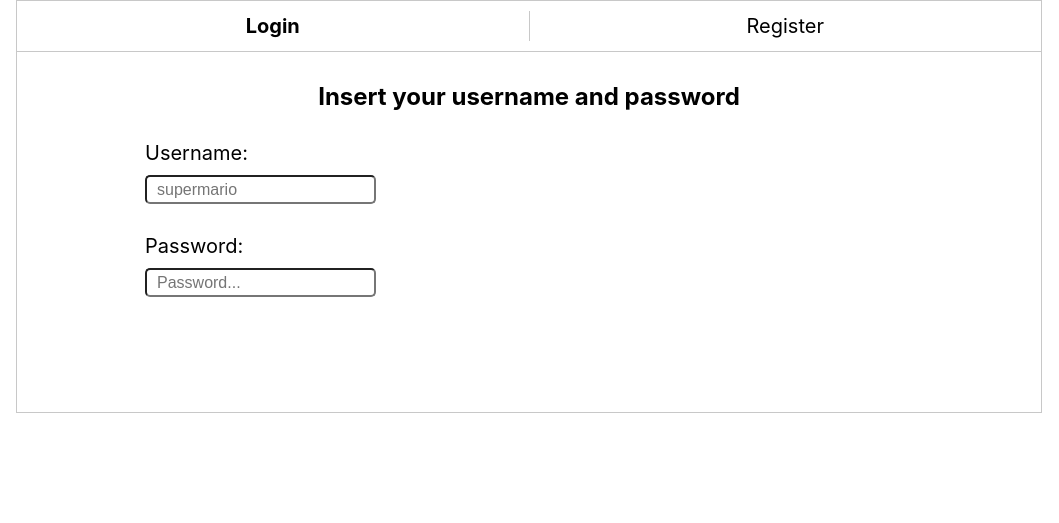
Test case: Given a AuthenticationPage component › When it's rendered and the user clikcs the Register button › Then it should display a heading 'Create an account'
Click the link "Register". click: (785, 26)
box: [746,14,824,38]
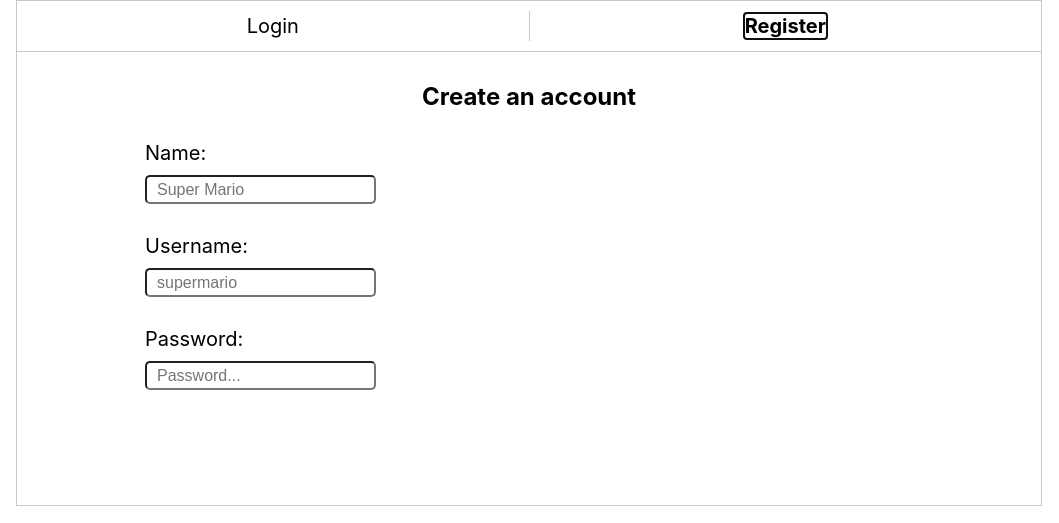
expect the heading "Create an account" is shown: met, box [422,82,636,111]
